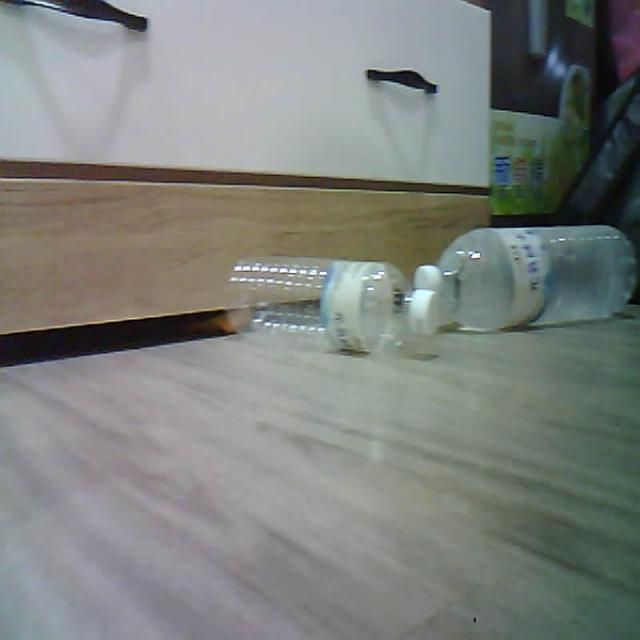bottle: (415, 226, 638, 330), (230, 257, 436, 352)
